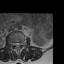CCS_normal: (16, 41, 18, 48)
LFS_normal: (20, 41, 22, 47)
LLS_normal: (18, 41, 20, 47)
RFS_normal: (13, 41, 14, 47)
RLS_normal: (14, 41, 16, 47)
